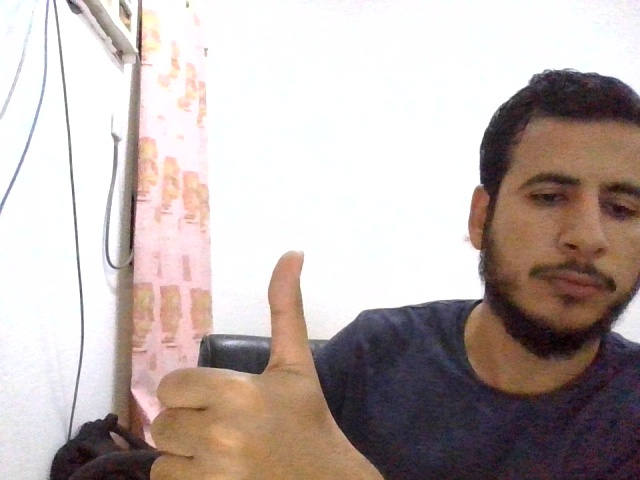One: (148, 250, 319, 480)
